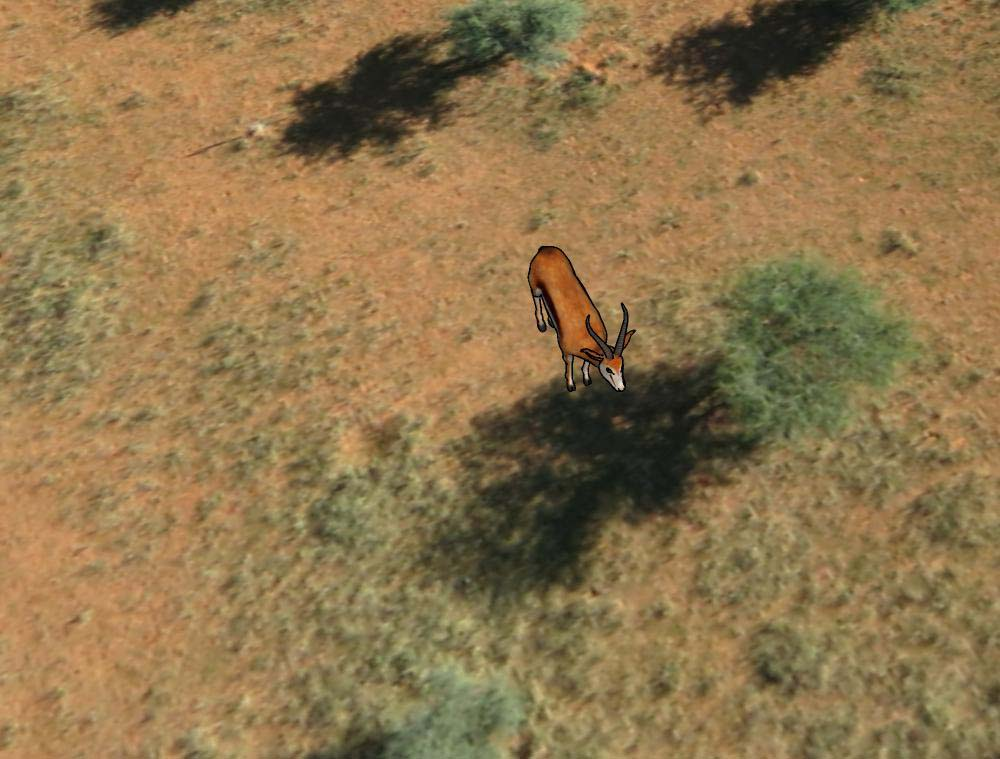springbok: (521, 231, 639, 400)
